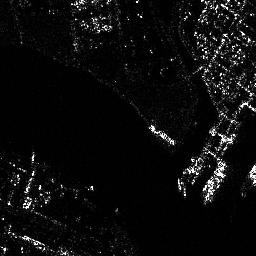ship: (202, 171, 226, 204), (147, 124, 176, 145)
